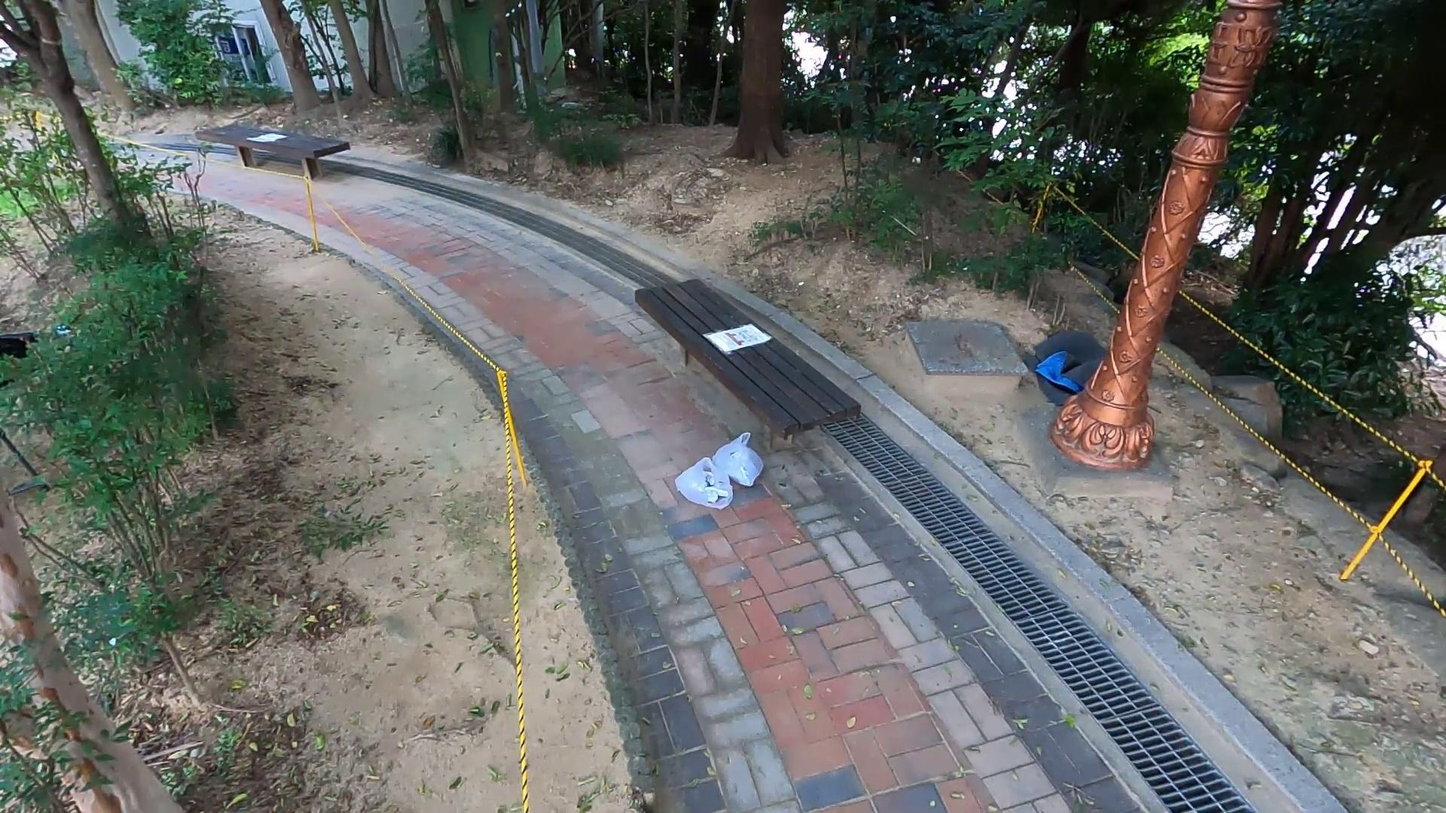trash: (711, 429, 774, 487), (677, 454, 733, 515)
